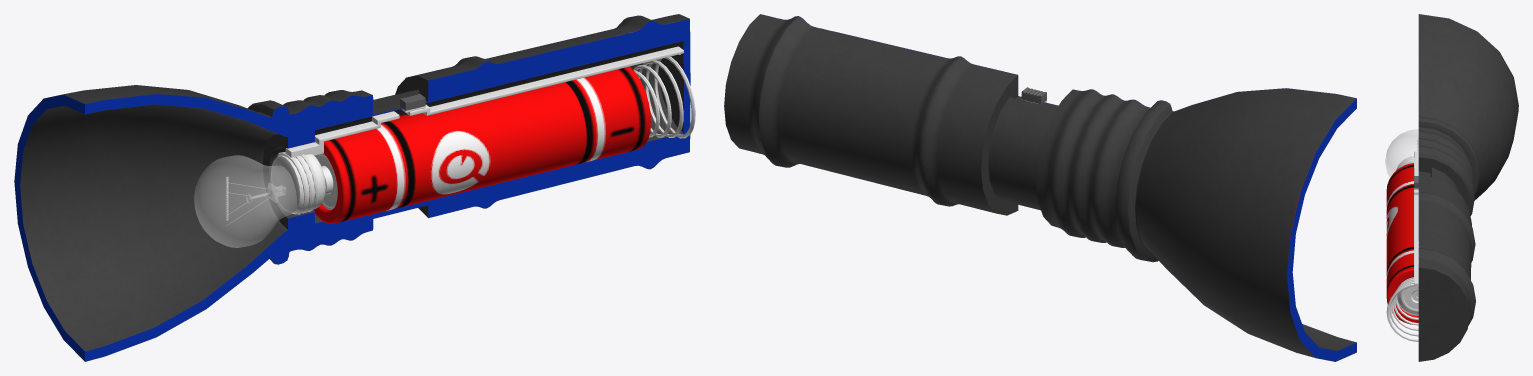
Rendered from spherical_mirrors_-_reflector.glb.
3 views of the same model, side by side, from view 1: azimuth 30°, elevation 25°; view 2: azimuth 150°, elevation 25°; view 3: azimuth 270°, elevation 25° (orthographic). The views are drawn at different scales.
Parts seen in each view (by area): view 1: Object_5, Object_4, Object_6; view 2: Object_5; view 3: Object_5, Object_4, Object_6.
Boxes of the visible parts, x1,y1,x2,y2 form: Object_5: [14, 14, 695, 361]; Object_4: [194, 155, 296, 247]; Object_6: [226, 93, 425, 220]; Object_5: [724, 14, 1356, 361]; Object_5: [1386, 14, 1518, 361]; Object_4: [1385, 129, 1418, 177]; Object_6: [1396, 138, 1418, 188].
Size of the model in its own units: 60.33 by 24.54 by 16.29.
Materials: 2 (1 with a texture image).
